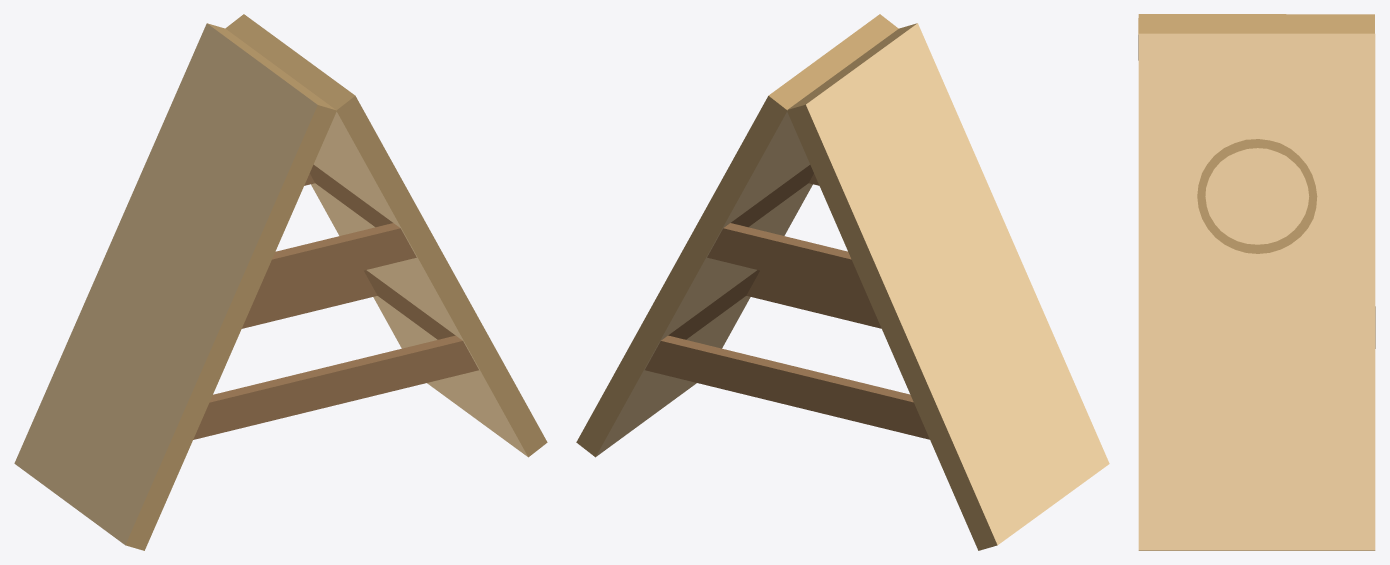
File: foldSign.fbx
3 views of the same model, side by side, from view 1: azimuth 30°, elevation 25°; view 2: azimuth 150°, elevation 25°; view 3: azimuth 270°, elevation 25° (orthographic). The views are drawn at different scales.
Parts seen in each view (by area): view 1: Cube; view 2: Cube; view 3: Cube.
Boxes of the visible parts, x1=… form: Cube: x1=14, y1=14, x2=547, y2=550; Cube: x1=576, y1=14, x2=1109, y2=550; Cube: x1=1138, y1=14, x2=1375, y2=550.
Size of the model in its own units: 618 by 565 by 284.
